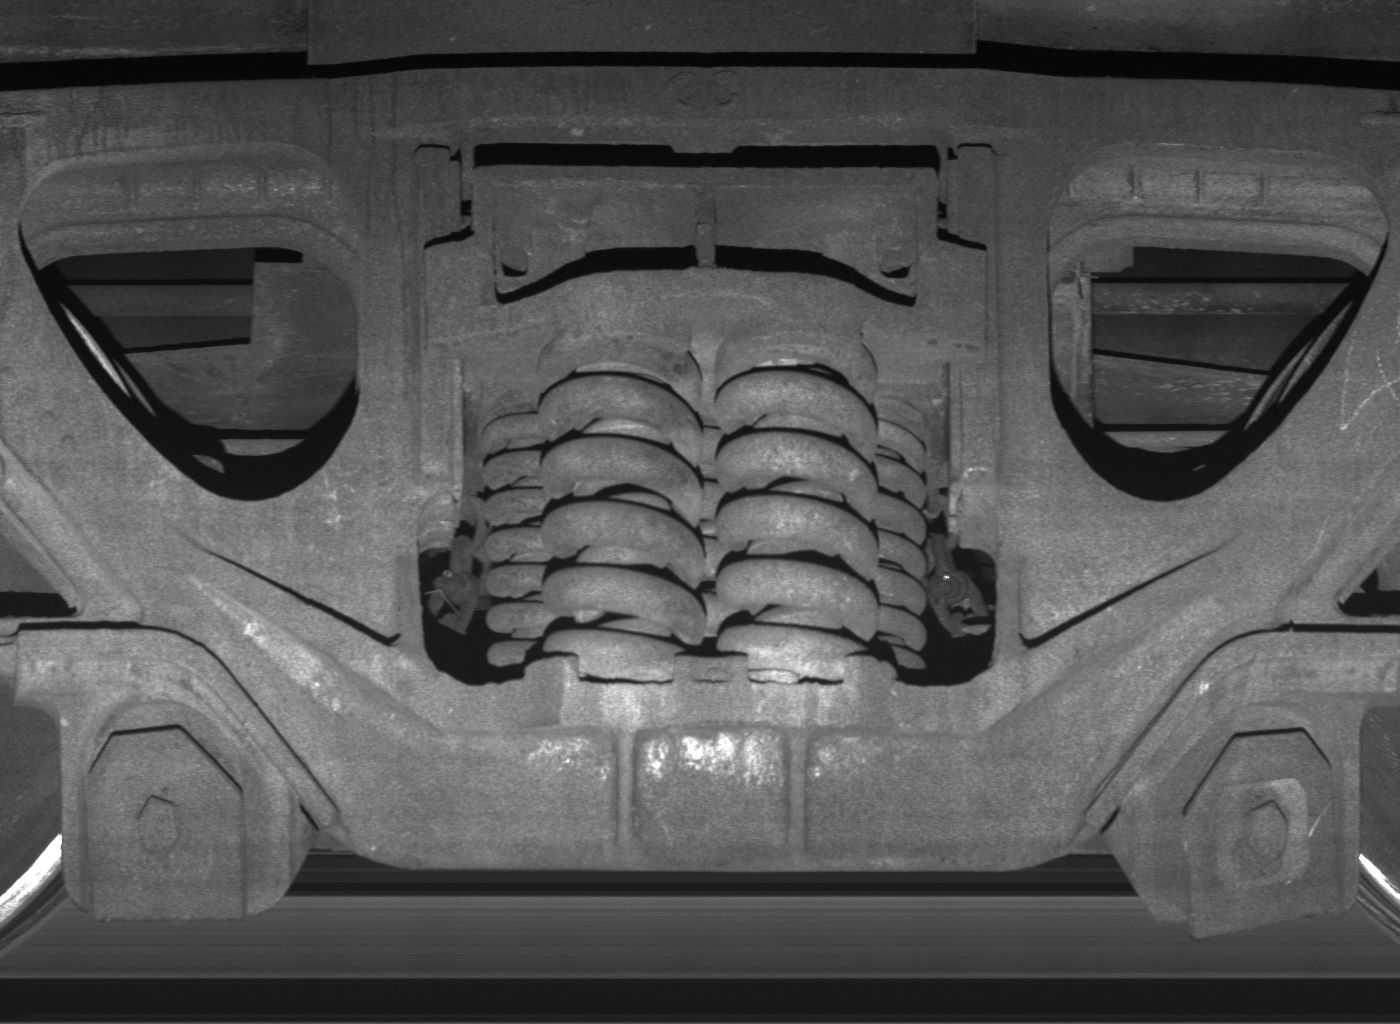Locking plate: (1130, 698, 1361, 942)
normal: (62, 696, 289, 923)
